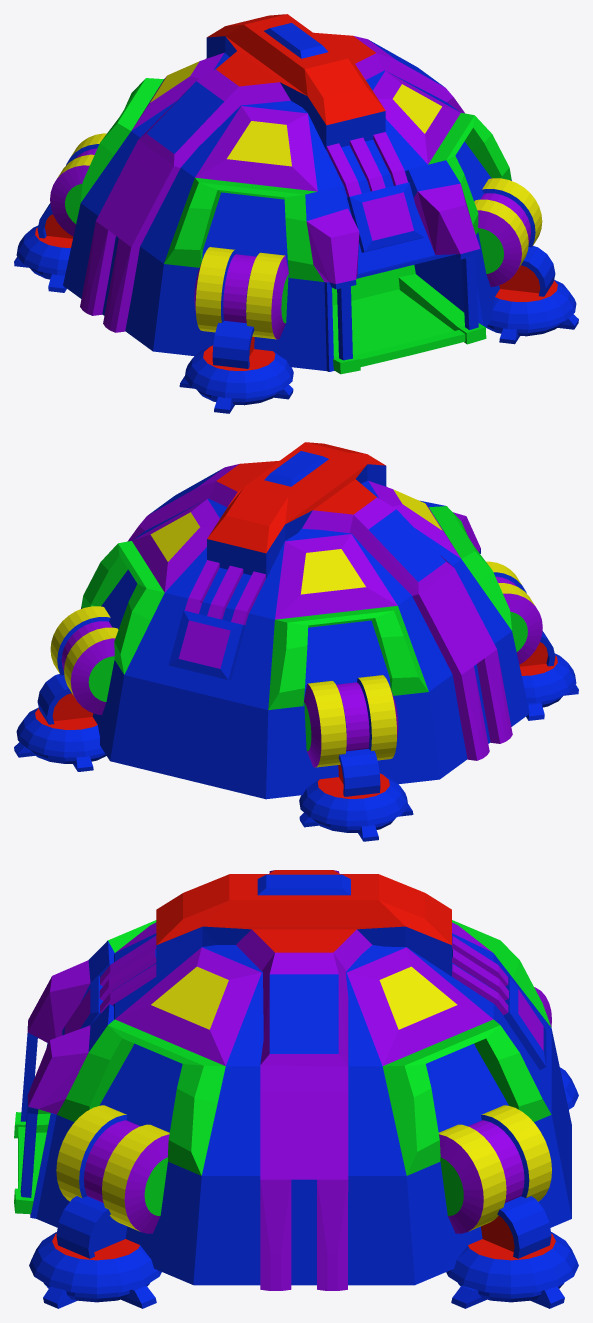
The model's file is Terran_Command_Center.fbx.
The picture shows the model from 3 angles, top to bottom: view 1: azimuth 30°, elevation 25°; view 2: azimuth 150°, elevation 25°; view 3: azimuth 270°, elevation 25°; orthographic projection. The views are drawn at different scales.
Parts seen in each view (by area): view 1: Body, Legs; view 2: Body, Legs; view 3: Body, Legs.
Part boxes in pixels (box(x1,y1,x2,y2)): Body: box(50, 14, 542, 374); Legs: box(14, 203, 578, 413); Body: box(50, 442, 542, 799); Legs: box(14, 631, 578, 841); Body: box(14, 870, 571, 1290); Legs: box(29, 1067, 578, 1308).
Size of the model in its own units: 981 by 605 by 975.
